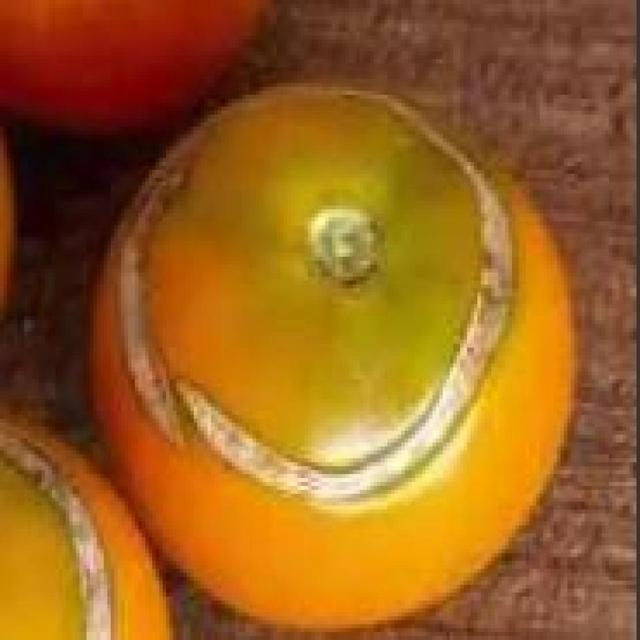Cracking Fruit: (36, 140, 282, 354)
